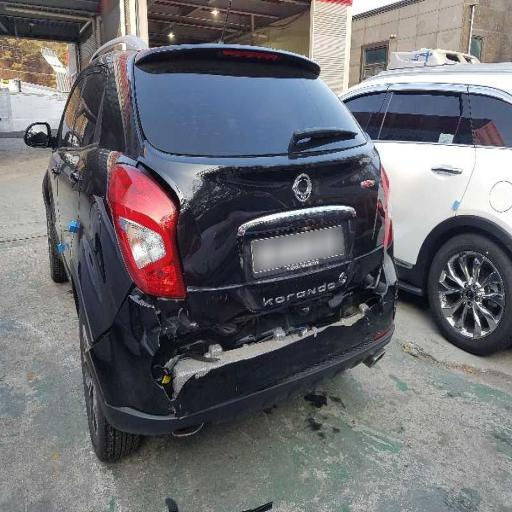broken: (128, 224, 396, 429)
